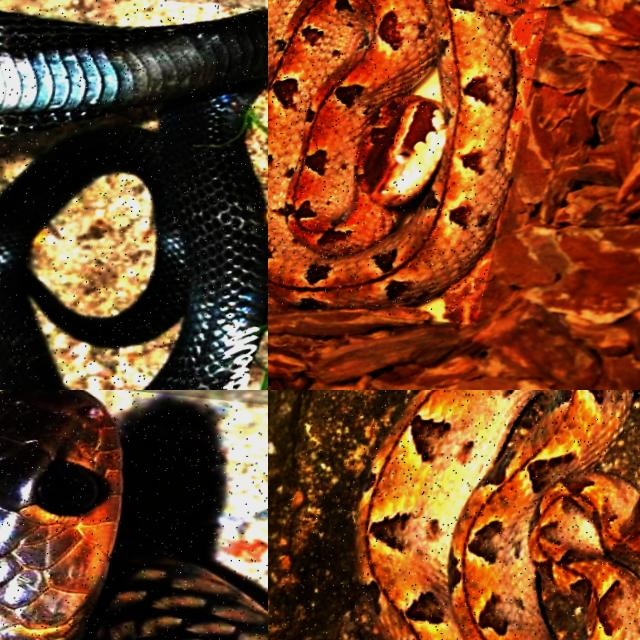Calloselasma rhodostoma: (268, 0, 514, 308), (356, 390, 639, 639)
Naja kaouthia: (0, 11, 267, 389), (0, 390, 122, 639)
